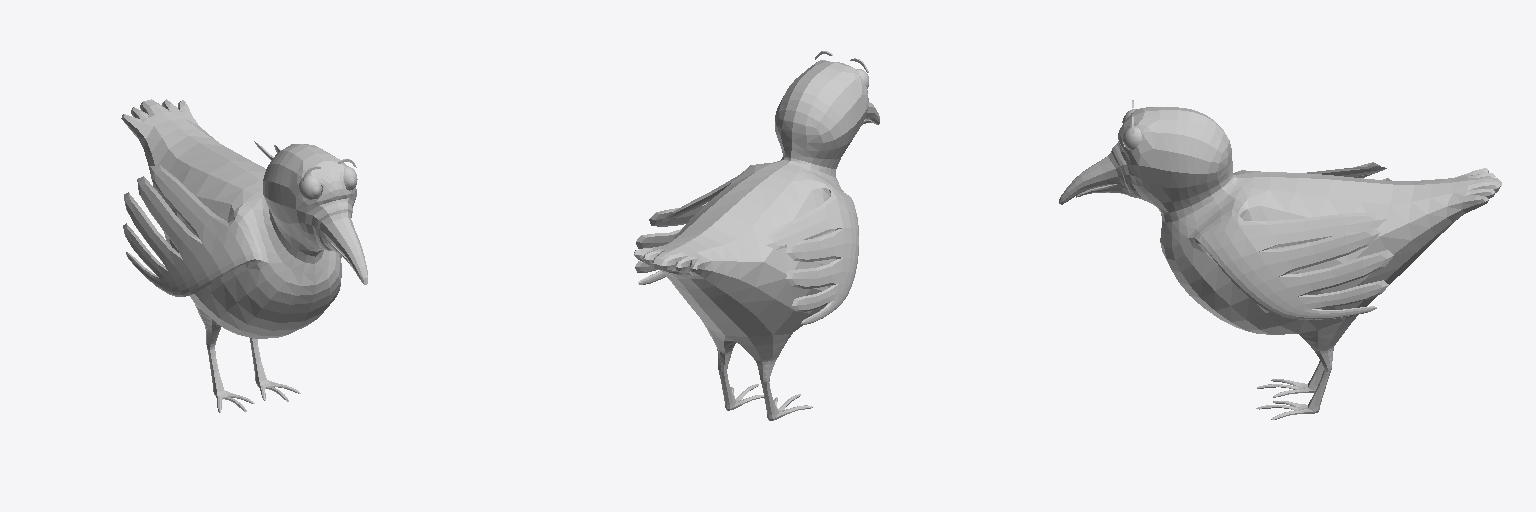
Rendered from gaby.obj.
3 renders of one model, left to right at view 1: azimuth 30°, elevation 25°; view 2: azimuth 150°, elevation 25°; view 3: azimuth 270°, elevation 25°, orthographic.
Size of the model in its own units: 2.37 by 4 by 5.46.